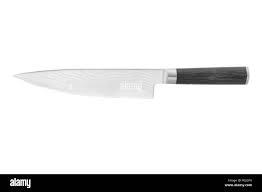Knife: (13, 65, 249, 99)
